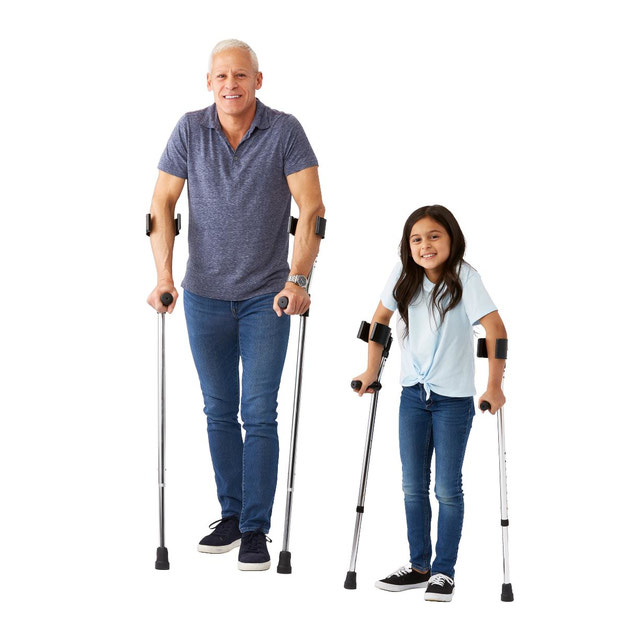crutches: (146, 39, 328, 576), (342, 204, 517, 602)
